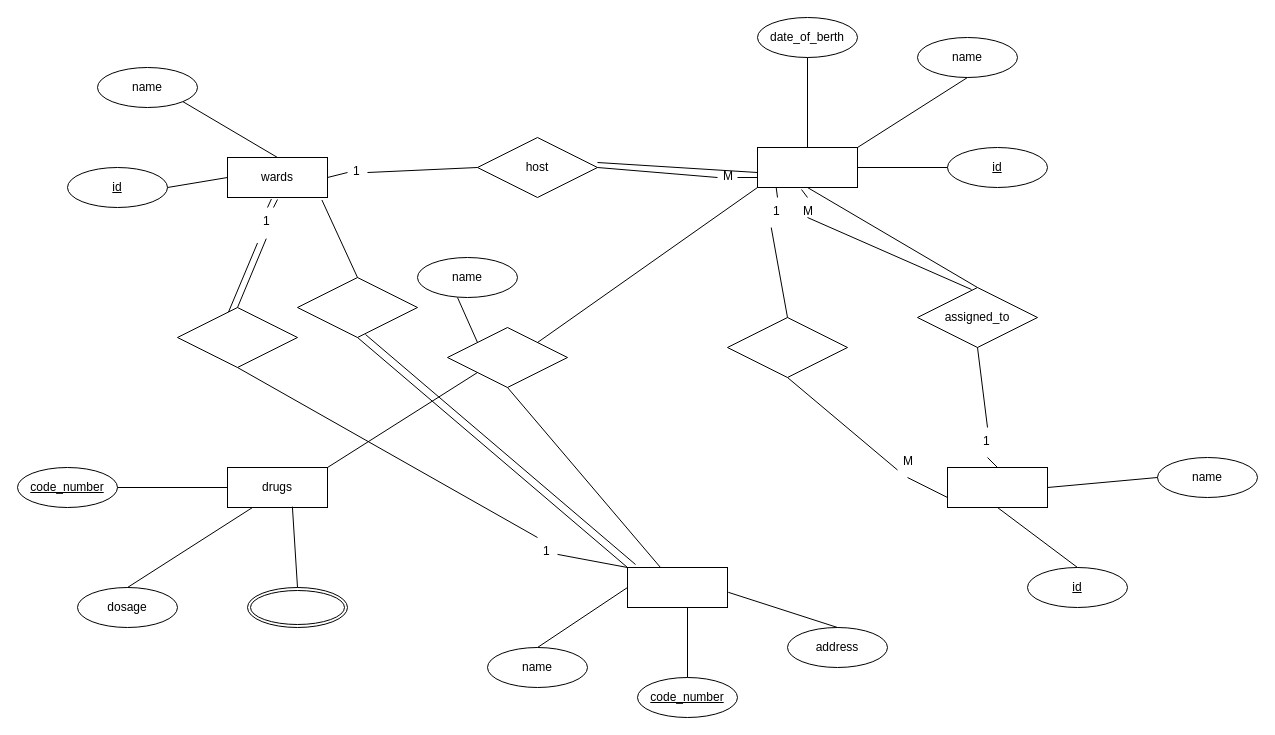
Some shapes in this 1275 by 735 pixel diagram are drawn without their labels. Each missing label, with the centre of its shape:
"brand_name" goes at (297,607).
"consultants" goes at (997,487).
"examine" goes at (787,347).
"gives_drug" goes at (507,357).
"nurses" goes at (677,587).
"patients" goes at (807,167).
"serve" goes at (357,307).
"supervisor" goes at (237,337).
